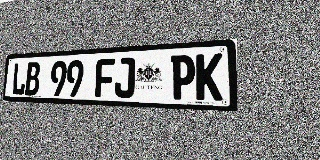9: (66, 60, 84, 97), (50, 61, 67, 96)
B: (25, 62, 40, 96)
F: (95, 58, 115, 98)
J: (114, 57, 135, 98)
K: (196, 53, 222, 101)
L: (11, 62, 26, 95)
P: (170, 54, 195, 100)
